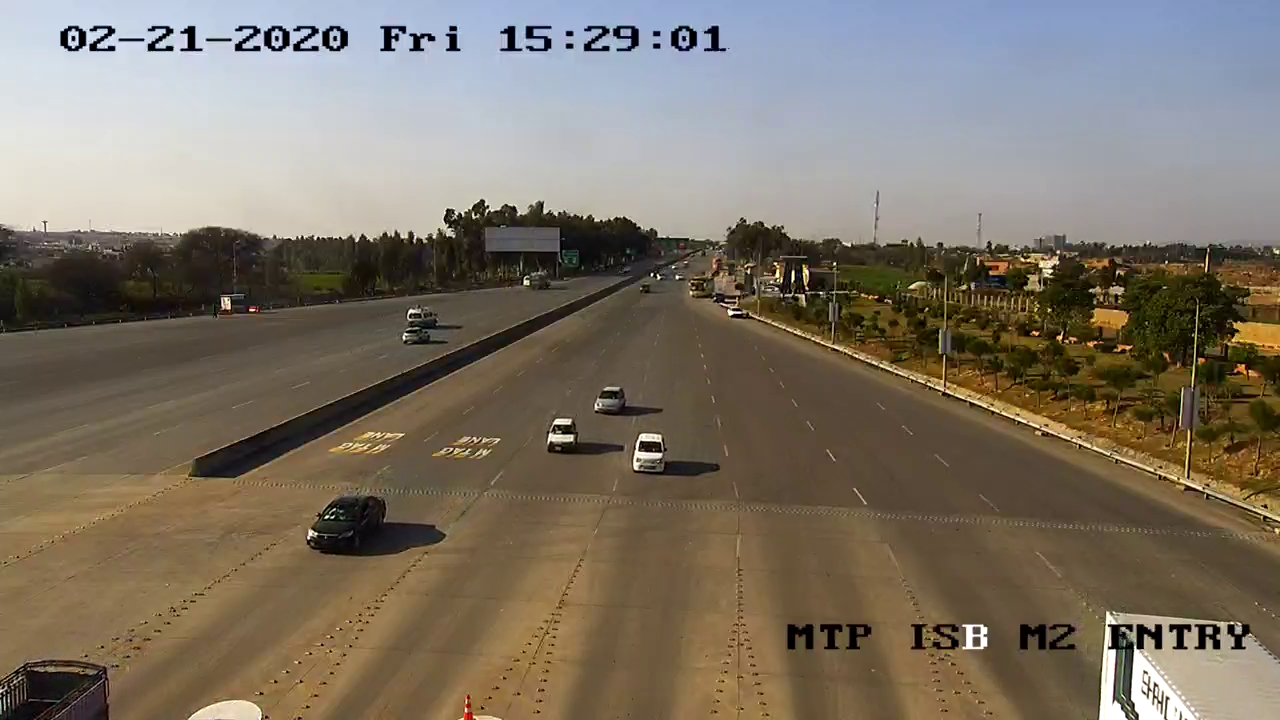f1: (294, 483, 398, 559), (531, 407, 586, 471), (620, 422, 674, 486)
